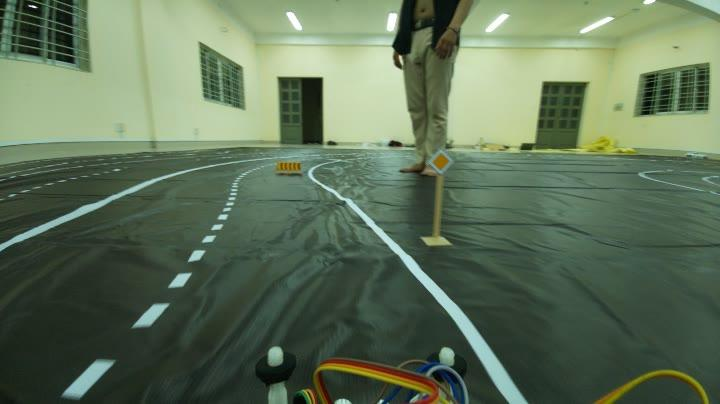priority: (430, 145, 458, 178)
roadblock: (272, 158, 307, 178)
